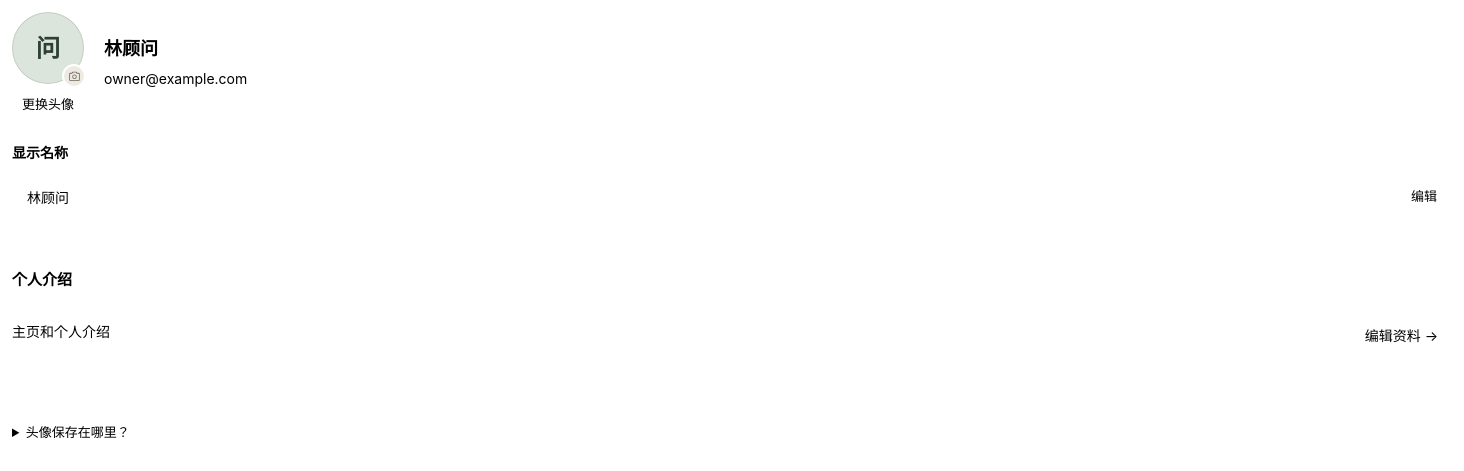
Test: makes editing explicit and discards a cancelled name draft
Click the button "林顾问 编辑" at (48, 197), box x1=12 y1=173 x2=1452 y2=221
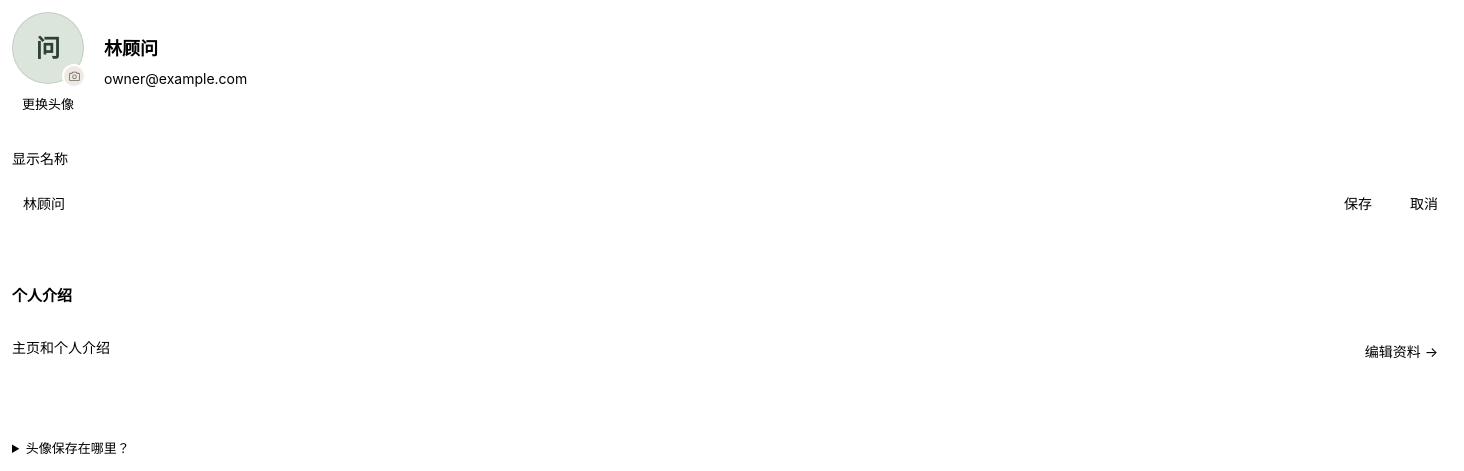
Replace the text in the field named "name" with "未保存的名字" at (666, 203), box x1=12 y1=181 x2=1320 y2=225
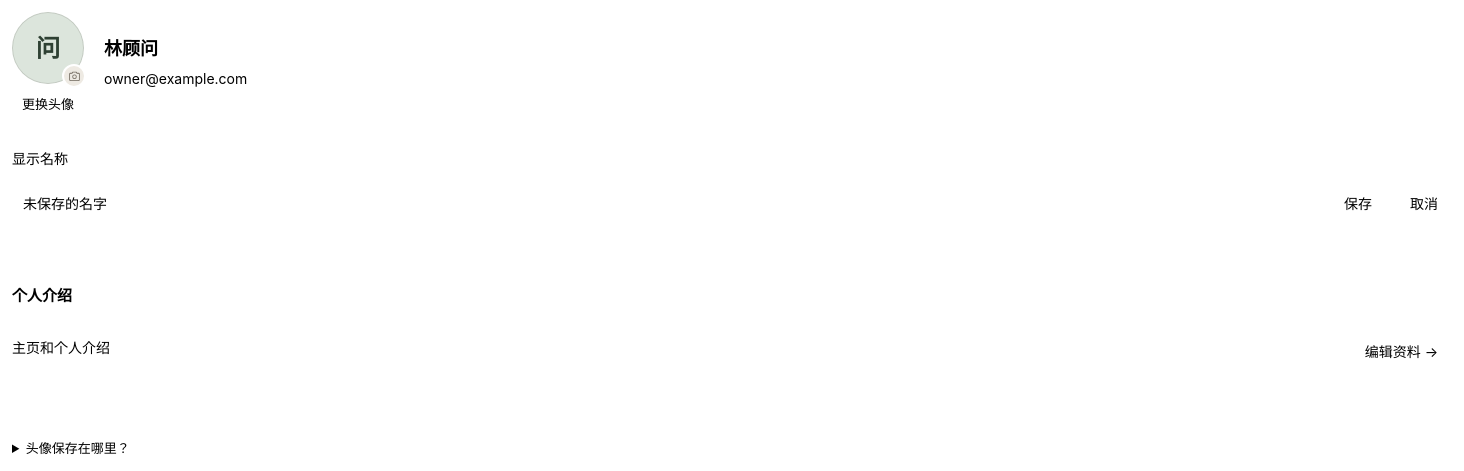
Expected: the button "取消" is shown
Click the button "取消" at (1424, 203), box x1=1396 y1=181 x2=1452 y2=225
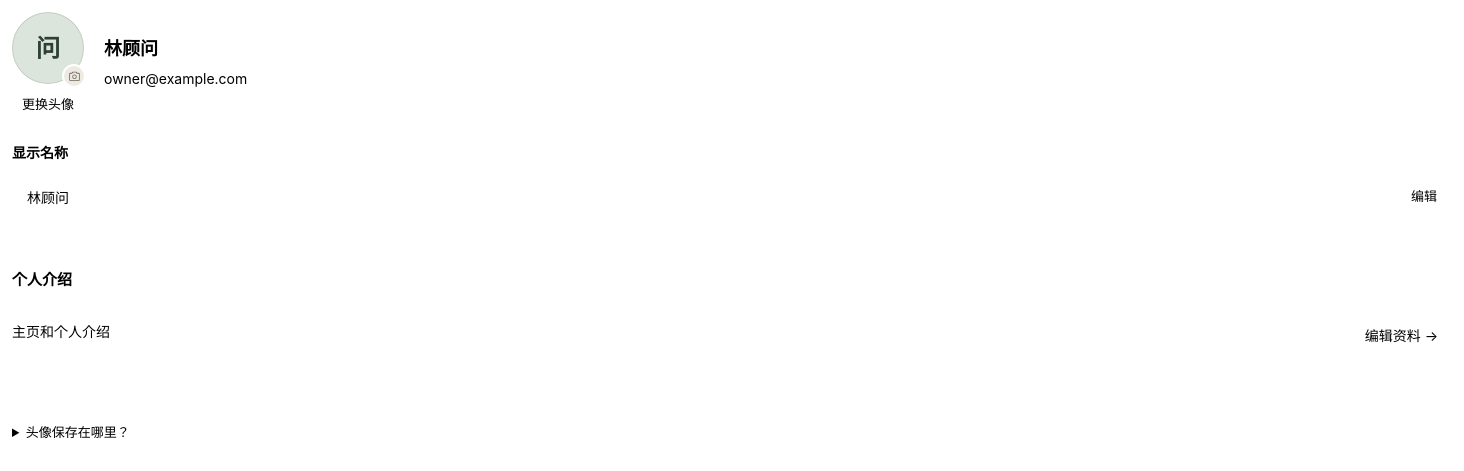
Expected: the button "林顾问 编辑" is shown
Click the button "林顾问 编辑" at (48, 197), box x1=12 y1=173 x2=1452 y2=221
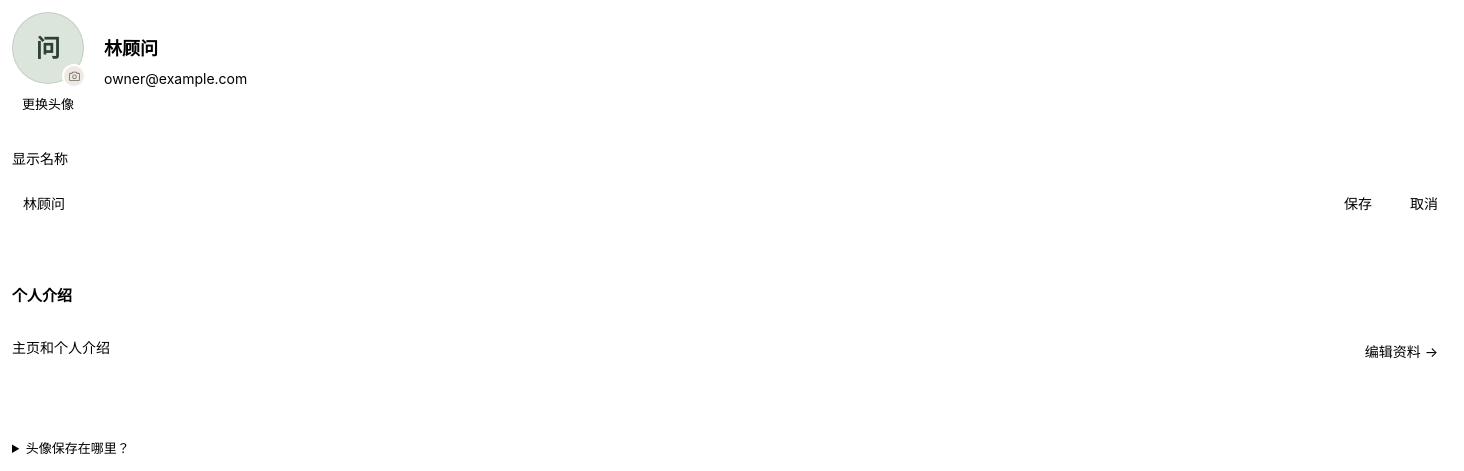
Expected: the field named "name" holds "林顾问", x1=12 y1=181 x2=1320 y2=225
